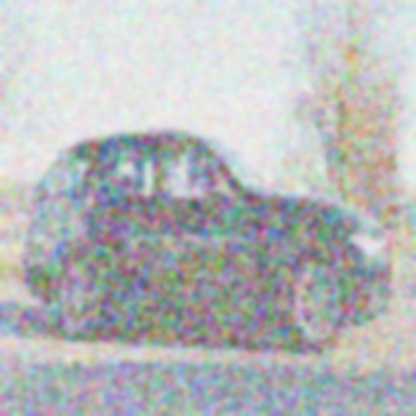Vehicle: (26, 129, 392, 357)
